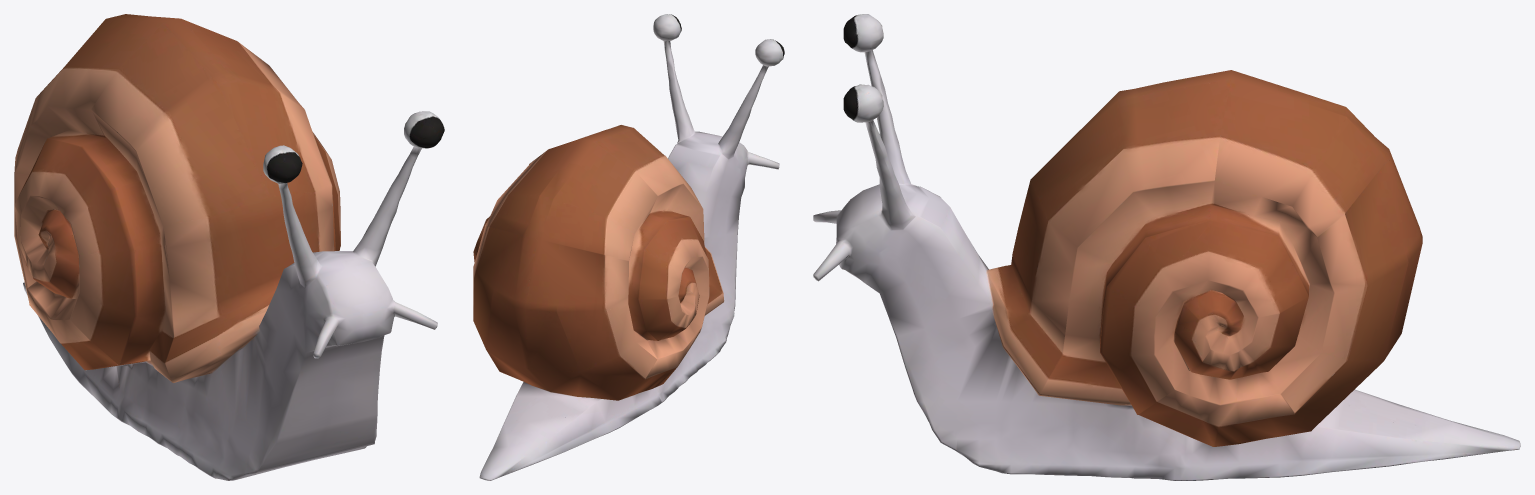
Rendered from snail-CeqVi0dP.glb.
The picture shows the model from 3 angles, left to right: view 1: azimuth 30°, elevation 25°; view 2: azimuth 150°, elevation 25°; view 3: azimuth 270°, elevation 25°; orthographic projection. The views are drawn at different scales.
Visible parts, largest first — view 1: tripo_node_411a4f52-ea32-46d0-a404-3200eec0ee7a; view 2: tripo_node_411a4f52-ea32-46d0-a404-3200eec0ee7a; view 3: tripo_node_411a4f52-ea32-46d0-a404-3200eec0ee7a.
Boxes of the visible parts, left/top/right/bottom form: tripo_node_411a4f52-ea32-46d0-a404-3200eec0ee7a: left=14, top=14, right=444, bottom=480; tripo_node_411a4f52-ea32-46d0-a404-3200eec0ee7a: left=473, top=14, right=784, bottom=480; tripo_node_411a4f52-ea32-46d0-a404-3200eec0ee7a: left=813, top=14, right=1520, bottom=480.
Bounding box in the file's own units: 0.7611 × 1 × 1.63.
1 material, 1 textured.
